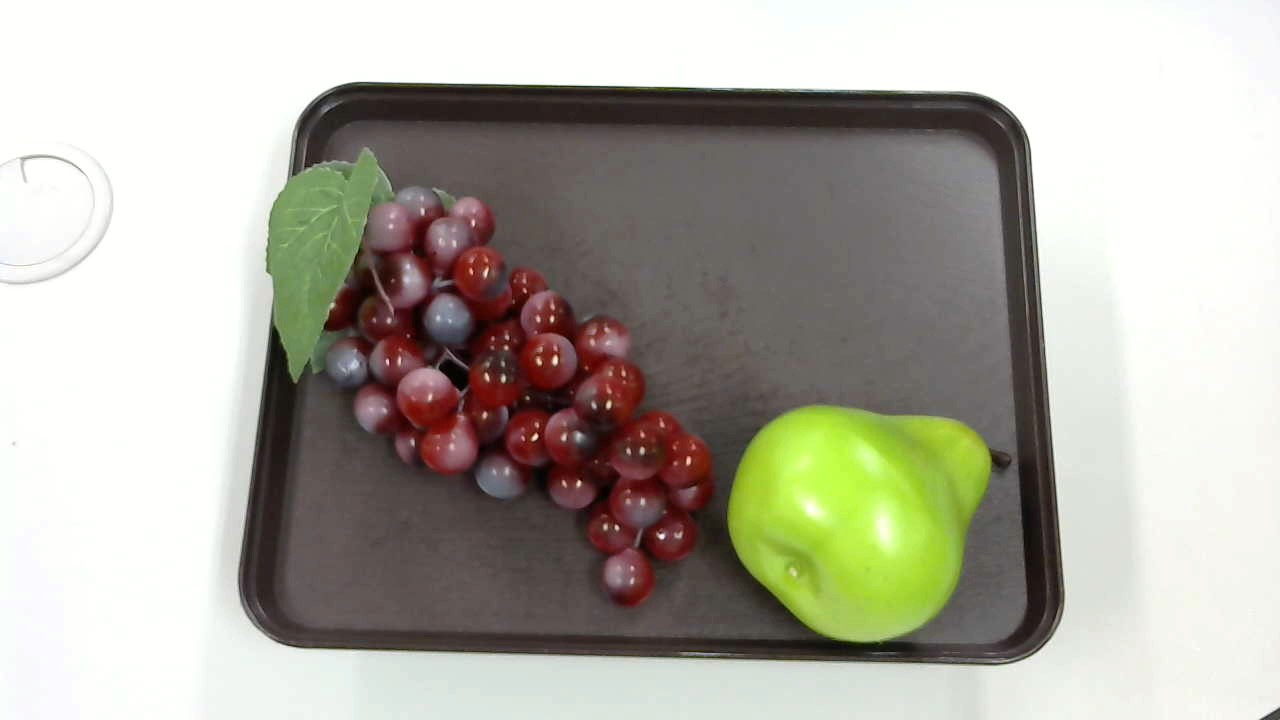grape: (269, 141, 725, 613)
green pear: (730, 403, 1010, 635)
